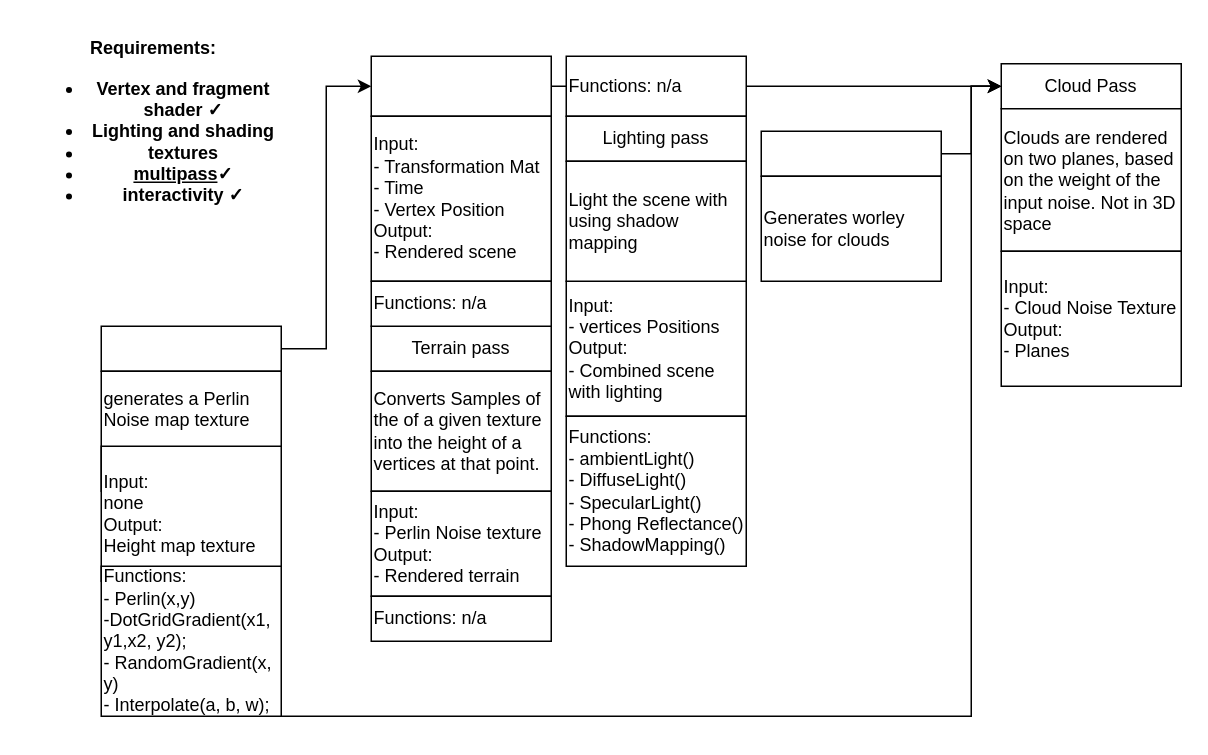
This 1208x755 diagram has some shape labels left out. The centre of each missing label's shape, as x and y in pixels:
"Cloud Noise Pass" goes at point 850,153.
"Noise pass" goes at point 190,348.
"Scene Pass" goes at point 460,85.
